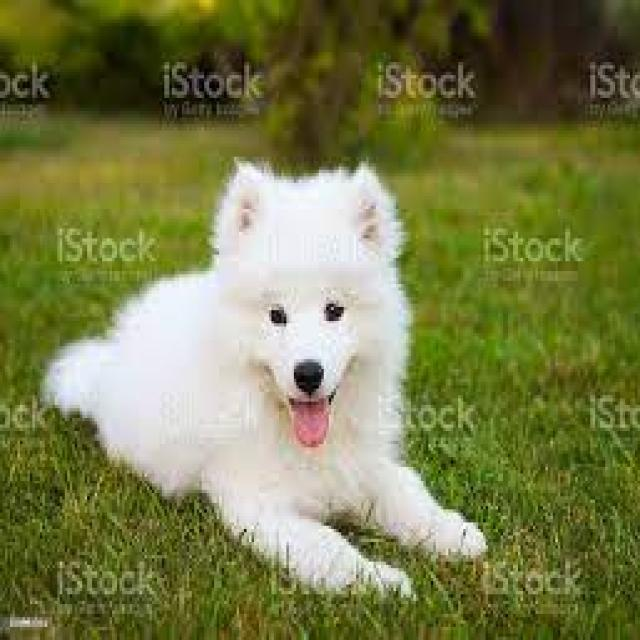dogs: (38, 157, 489, 598)
